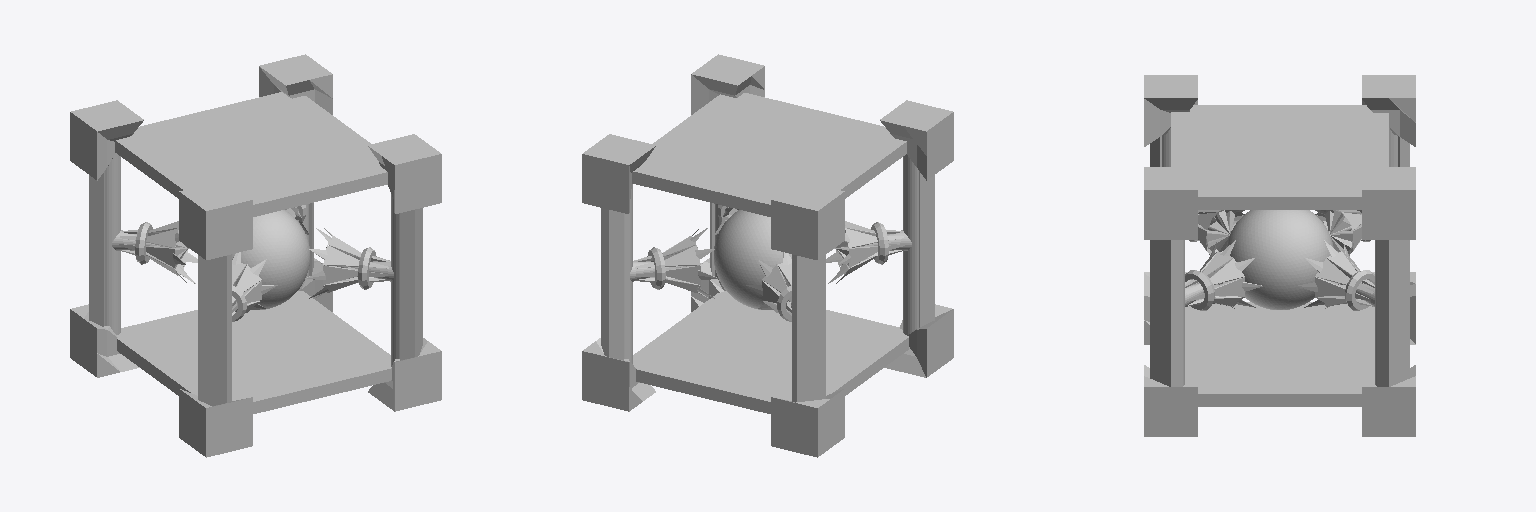
The model's file is Power_Complex2.obj.
The picture shows the model from 3 angles: view 1: azimuth 30°, elevation 25°; view 2: azimuth 150°, elevation 25°; view 3: azimuth 270°, elevation 25°; orthographic projection.
Visible parts, largest first — view 1: Cube.006_Cube.002, Icosphere_Icosphere.004; view 2: Cube.006_Cube.002, Icosphere_Icosphere.004; view 3: Cube.006_Cube.002, Icosphere_Icosphere.004.
Part boxes in pixels (left/top/right/bottom): Cube.006_Cube.002: left=70, top=54, right=441, bottom=457; Icosphere_Icosphere.004: left=232, top=210, right=309, bottom=309; Cube.006_Cube.002: left=582, top=54, right=953, bottom=457; Icosphere_Icosphere.004: left=714, top=210, right=791, bottom=309; Cube.006_Cube.002: left=1144, top=75, right=1415, bottom=436; Icosphere_Icosphere.004: left=1226, top=210, right=1333, bottom=309.
Size of the model in its own units: 5 by 5 by 5.